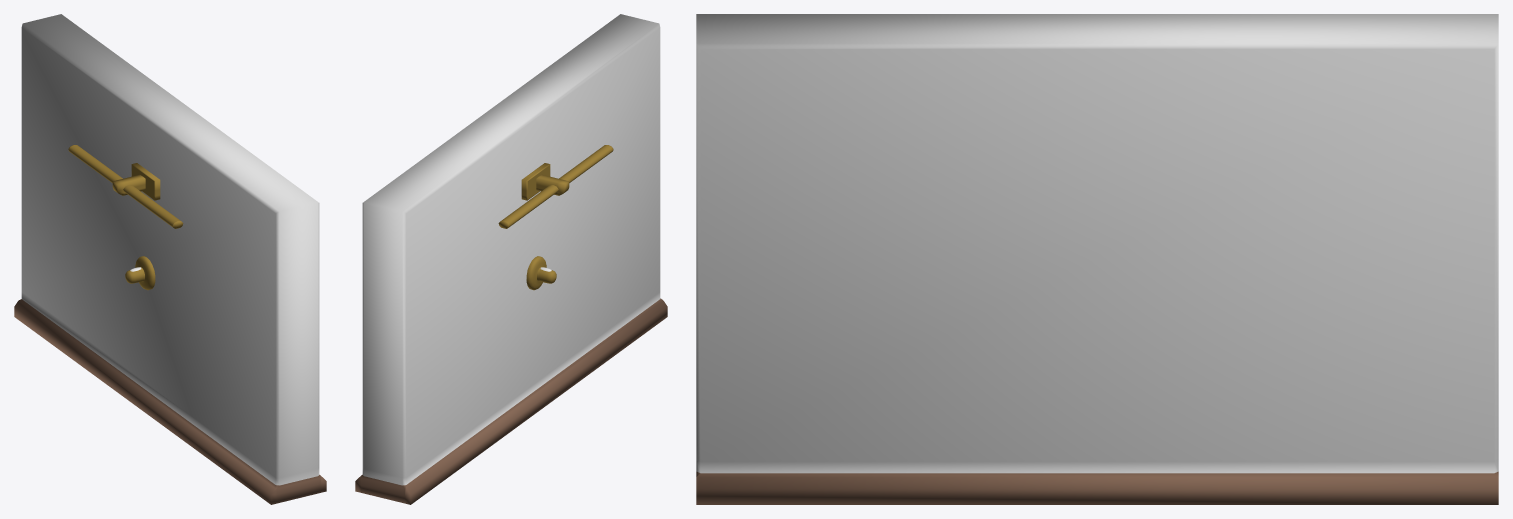
File: lights.fbx
The picture shows the model from 3 angles, left to right: view 1: azimuth 30°, elevation 25°; view 2: azimuth 150°, elevation 25°; view 3: azimuth 270°, elevation 25°; orthographic projection. The views are drawn at different scales.
Visible parts, largest first — view 1: Cube, wide light, point light; view 2: Cube, wide light, point light; view 3: Cube.
Part boxes in pixels (box(x1,y1,x2,y2)): Cube: box(14, 14, 326, 504); wide light: box(68, 145, 183, 228); point light: box(125, 256, 155, 290); Cube: box(355, 14, 667, 504); wide light: box(498, 145, 613, 228); point light: box(526, 256, 556, 290); Cube: box(696, 14, 1498, 504).
Size of the model in its own units: 190 by 638 by 1020.
